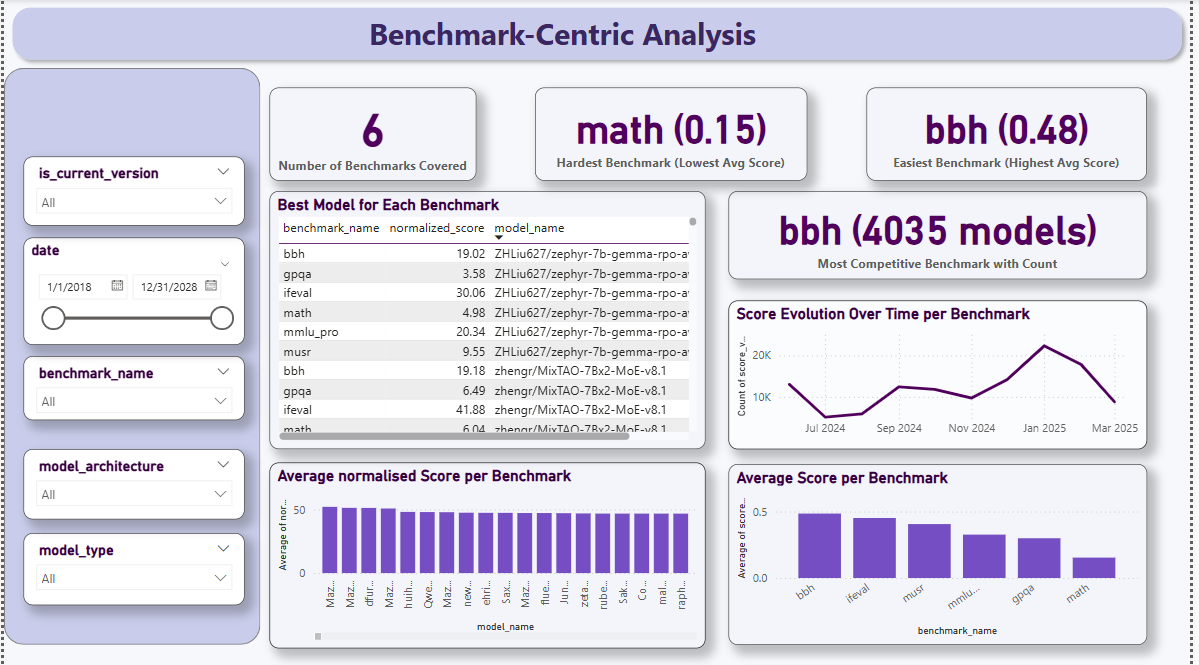

Layout of this report page (visuals, bound fields, positions):
{"tool":"powerbi","page":{"name":"Benchmark-Centric Analysis","canvas":[1280,720],"ordinal":1},"visuals":[{"type":"card","fields":{"Values":["FactEvaluation.Number of Benchmarks Covered"]},"box":[287.3,95.2,223.2,100.4],"z":0},{"type":"card","fields":{"Values":["FactEvaluation.Most Competitive Benchmark with Count"]},"box":[782.2,207.7,451.7,95.2],"z":1000},{"type":"card","fields":{"Values":["FactEvaluation.Easiest Benchmark (Highest Avg Score)"]},"box":[931,95.2,302.8,100.4],"z":2000},{"type":"card","fields":{"Values":["FactEvaluation.Hardest Benchmark (Lowest Avg Score)"]},"box":[573.7,95.2,294.2,100.4],"z":3000},{"type":"clusteredColumnChart","title":"\tAverage normalised Score per Benchmark","fields":{"Category":["DimModel.model_name"],"Y":["FactEvaluation.normalized_score"]},"box":[287.3,500.1,470.7,200.7],"z":4000},{"type":"clusteredColumnChart","title":"Average Score per Benchmark","fields":{"Category":["DimBenchmark.benchmark_name"],"Y":["FactEvaluation.score_value"]},"box":[782.2,501.9,451.7,195.6],"z":5000},{"type":"tableEx","title":"Best Model for Each Benchmark","fields":{"Values":["DimBenchmark.benchmark_name","FactEvaluation.normalized_score","DimModel.model_name"]},"box":[287.3,207.7,470.7,278.6],"z":6000},{"type":"shape","box":[0,0,1280.6,74.4],"z":7000},{"type":"shape","box":[0,74.4,276.9,623],"z":8000},{"type":"slicer","fields":{"Values":["DimModel.model_type"]},"box":[20.8,576.3,238.8,77.9],"z":9000},{"type":"slicer","fields":{"Values":["DimModel.model_architecture"]},"box":[20.8,486.3,238.8,76.1],"z":10000},{"type":"slicer","fields":{"Values":["DimBenchmark.benchmark_name"]},"box":[20.8,385.9,238.8,69.2],"z":11000},{"type":"slicer","title":"date","fields":{"Values":["DimDate.full_date"]},"box":[20.8,257.8,238.8,115.9],"z":12000},{"type":"slicer","fields":{"Values":["DimModel.is_current_version"]},"box":[20.8,169.6,238.8,74.4],"z":13000},{"type":"lineChart","title":"Score Evolution Over Time per Benchmark","fields":{"Y":["FactEvaluation.score_value"],"Category":["DimDate.full_date.Variation.Date Hierarchy.Year","DimDate.full_date.Variation.Date Hierarchy.Quarter","DimDate.full_date.Variation.Date Hierarchy.Month"]},"box":[782.2,325.3,451.7,160.9],"z":14000},{"type":"textbox","box":[389.4,10.4,569.3,55.4],"z":15000}]}

Visuals, with their boxes in screenshot pixels (x1, y1, x2, y2), scaled from the page's 1280x720 canvas onto the 1199x665 screenshot:
card - FactEvaluation.Number of Benchmarks Covered: [269, 88, 478, 181]
card - FactEvaluation.Most Competitive Benchmark with Count: [733, 192, 1156, 280]
card - FactEvaluation.Easiest Benchmark (Highest Avg Score): [872, 88, 1156, 181]
card - FactEvaluation.Hardest Benchmark (Lowest Avg Score): [537, 88, 813, 181]
"	Average normalised Score per Benchmark" clusteredColumnChart: [269, 462, 710, 647]
"Average Score per Benchmark" clusteredColumnChart: [733, 464, 1156, 644]
"Best Model for Each Benchmark" tableEx: [269, 192, 710, 449]
shape: [0, 0, 1198, 69]
shape: [0, 69, 259, 644]
slicer - DimModel.model_type: [19, 532, 243, 604]
slicer - DimModel.model_architecture: [19, 449, 243, 519]
slicer - DimBenchmark.benchmark_name: [19, 356, 243, 420]
"date" slicer: [19, 238, 243, 345]
slicer - DimModel.is_current_version: [19, 157, 243, 225]
"Score Evolution Over Time per Benchmark" lineChart: [733, 300, 1156, 449]
textbox: [365, 10, 898, 61]
